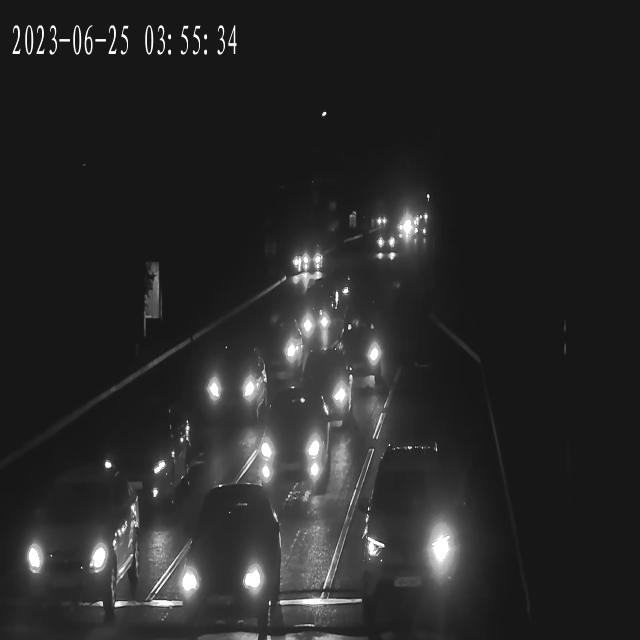Car: (362, 430, 462, 623), (6, 475, 144, 611), (180, 490, 280, 621), (89, 403, 188, 511), (254, 397, 330, 490), (194, 348, 268, 426), (232, 324, 305, 384), (298, 354, 355, 426), (337, 329, 387, 378), (296, 295, 334, 347), (314, 273, 349, 314), (373, 233, 397, 255), (370, 232, 394, 252), (402, 220, 427, 238), (368, 212, 391, 230), (405, 222, 429, 239), (394, 218, 415, 234), (304, 253, 324, 268), (302, 258, 322, 273), (409, 227, 429, 240), (291, 259, 307, 272)
